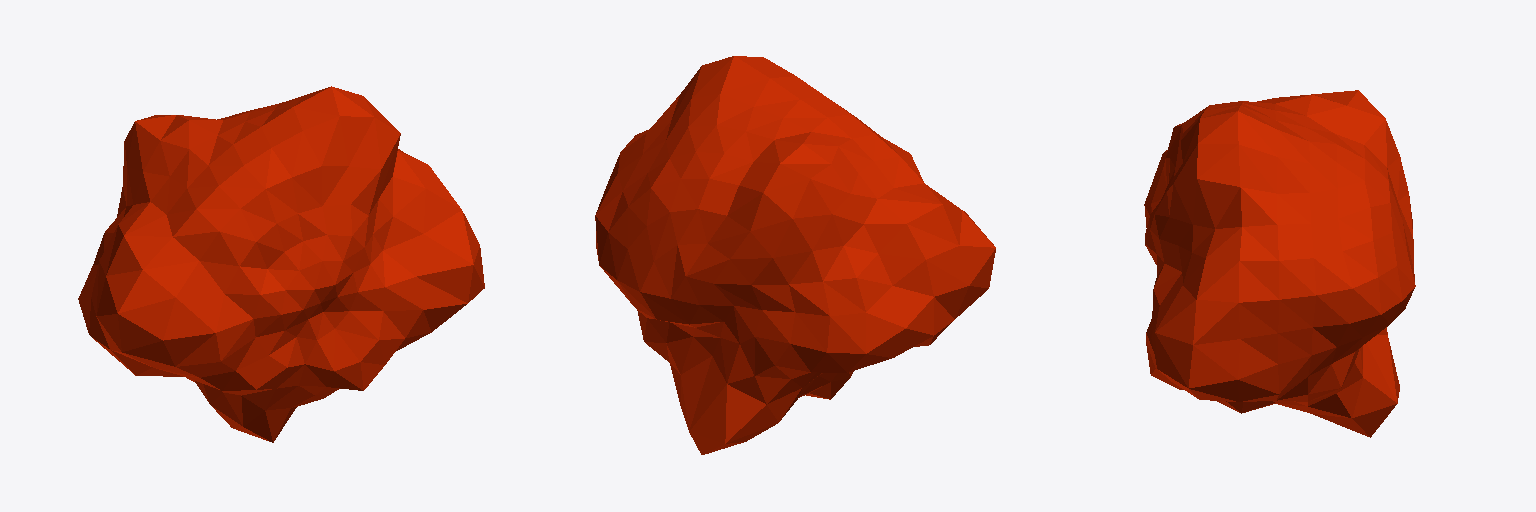
File: asteroid2.obj
3 views of the same model, side by side, from view 1: azimuth 30°, elevation 25°; view 2: azimuth 150°, elevation 25°; view 3: azimuth 270°, elevation 25° (orthographic).
Visible parts, largest first — view 1: Yorp; view 2: Yorp; view 3: Yorp.
Part boxes in pixels (left/top/right/bottom): Yorp: left=78, top=86, right=484, bottom=442; Yorp: left=595, top=56, right=995, bottom=454; Yorp: left=1144, top=90, right=1415, bottom=437.
Size of the model in its own units: 1.49 by 1.33 by 0.955.